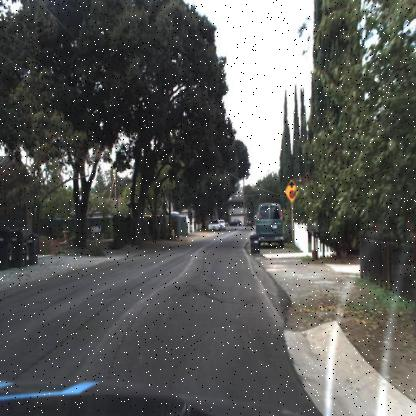car: (254, 200, 287, 247), (254, 202, 286, 250), (207, 219, 221, 233), (243, 215, 254, 230)
